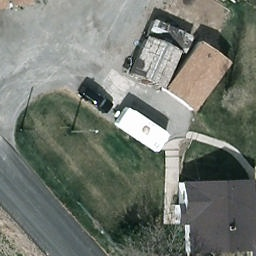camping car: (109, 105, 171, 155)
car: (77, 84, 116, 116)
